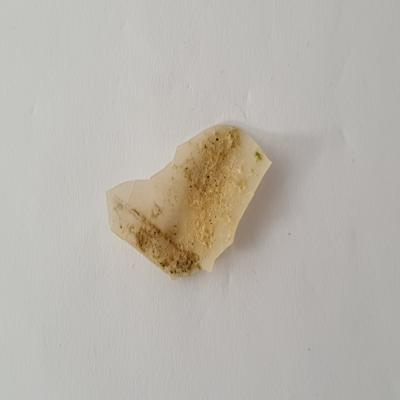plastic: (98, 120, 284, 284)
